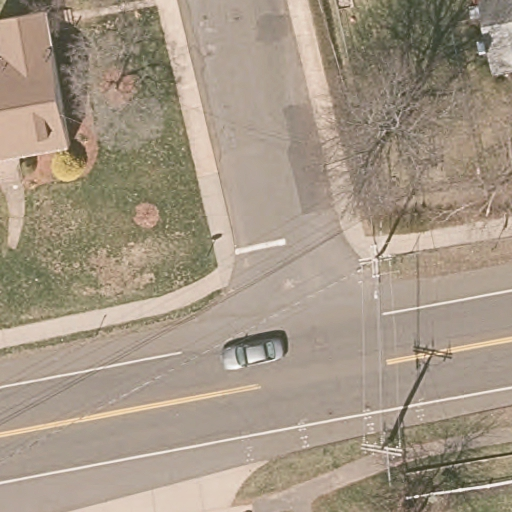DT: (361, 432, 404, 487), (358, 243, 392, 302)
